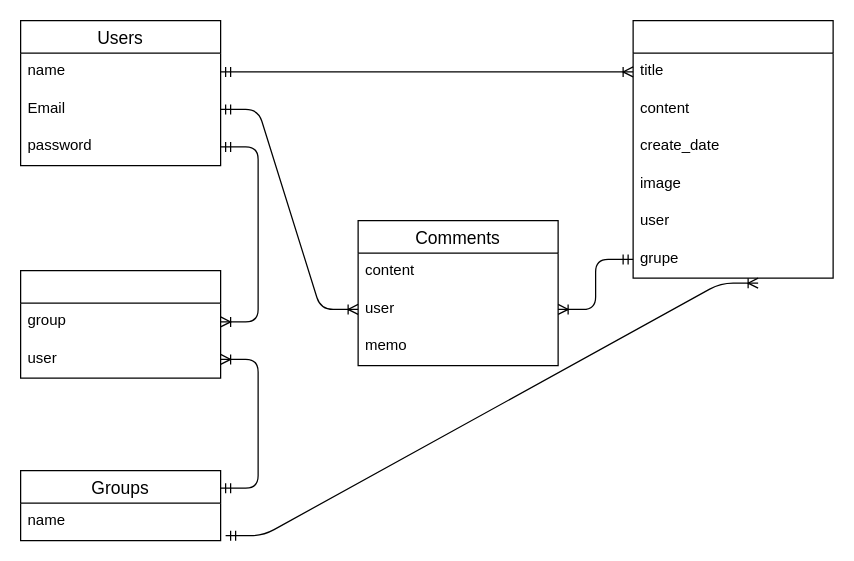
Some shapes in this 854 by 561 pixel diagram are drawn without their labels. The shapes that lost their labels are listed below. From the top down, each one's box as (x1, y1, x2, y2) in pixels, then its label:
(632, 19, 833, 278): Memos
(19, 269, 221, 378): Group_User
